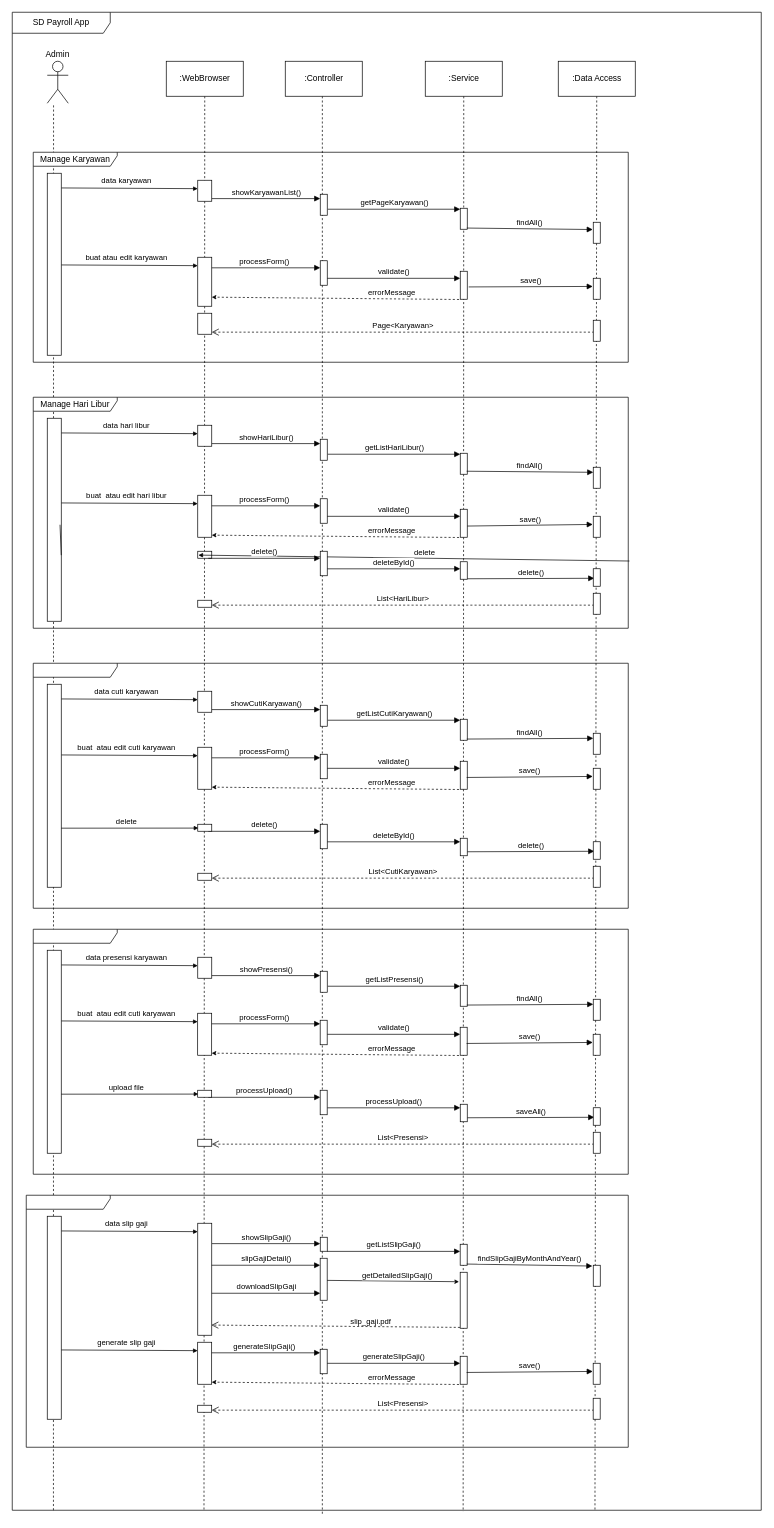
Some shapes in this 774 by 1528 pixel diagram are drawn without their labels. The centre of each missing label's shape, as x and y in pixels:
Manage Cuti: (x=330, y=785)
Manage Presensi: (x=330, y=1051)
Slip Gaji: (x=327, y=1321)
